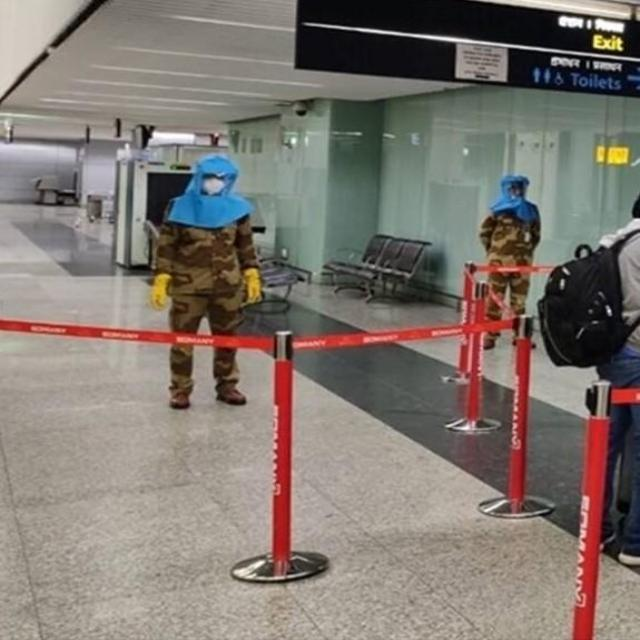Coverall: (152, 119, 265, 405)
Gloves: (230, 268, 304, 320), (139, 274, 172, 315)
Mask: (196, 177, 239, 210)
